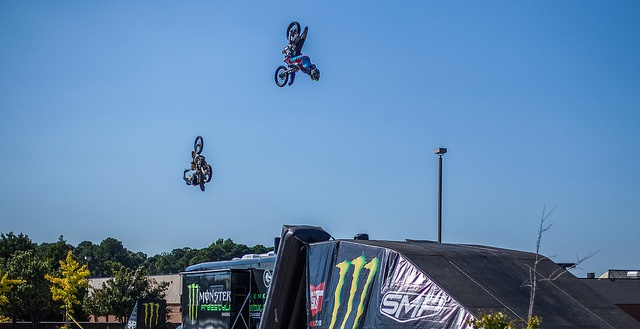non-vehicle: (274, 19, 310, 88), (184, 135, 212, 191)
